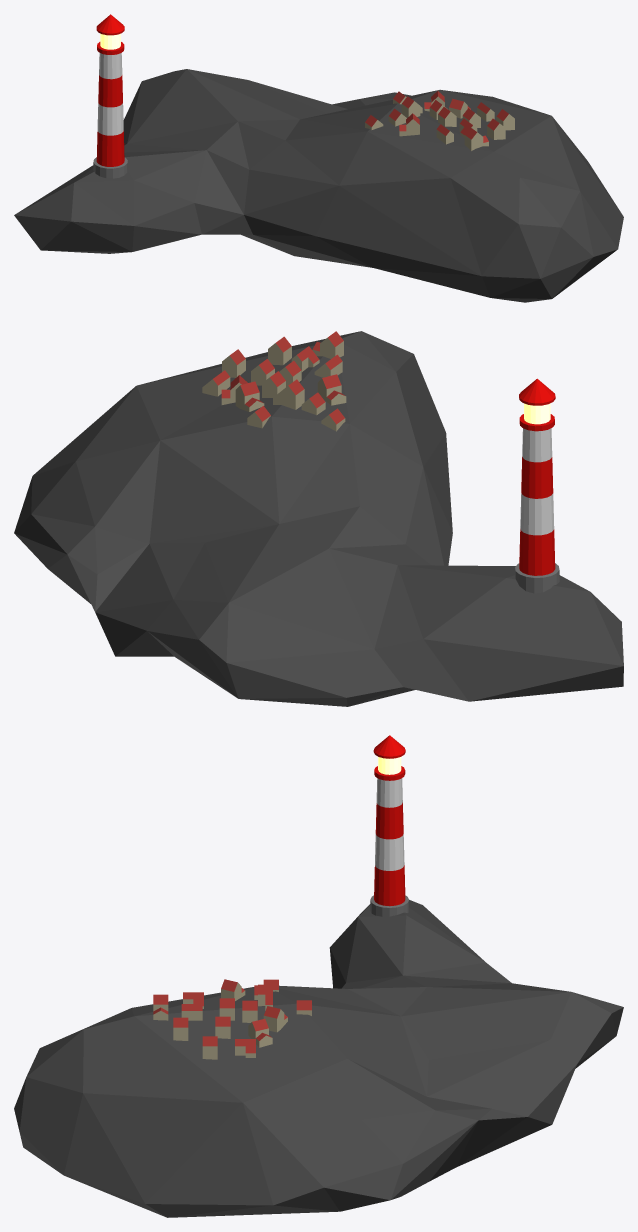
Rendered from Complete-Blender-Creator-Houses.glb.
The picture shows the model from 3 angles, top to bottom: view 1: azimuth 30°, elevation 25°; view 2: azimuth 150°, elevation 25°; view 3: azimuth 270°, elevation 25°; orthographic projection. The views are drawn at different scales.
Visible parts, largest first — view 1: Base rocks, Lighthouse; view 2: Base rocks, Lighthouse, Cube.007, Cube, Cube.004, Cube.006, Cube.015; view 3: Base rocks, Lighthouse.
Boxes of the visible parts, left/top/right/bottom form: Base rocks: left=14, top=69, right=623, bottom=302; Lighthouse: left=93, top=14, right=127, bottom=178; Base rocks: left=14, top=331, right=623, bottom=706; Lighthouse: left=515, top=378, right=559, bottom=593; Cube.007: left=235, top=381, right=264, bottom=411; Cube: left=317, top=374, right=346, bottom=405; Cube.004: left=273, top=379, right=304, bottom=409; Cube.006: left=312, top=331, right=343, bottom=358; Cube.015: left=268, top=336, right=291, bottom=365; Base rocks: left=14, top=899, right=623, bottom=1217; Lighthouse: left=370, top=735, right=408, bottom=916.
Size of what is drawn, in the model's own units: 26.06 by 12.92 by 24.24.
